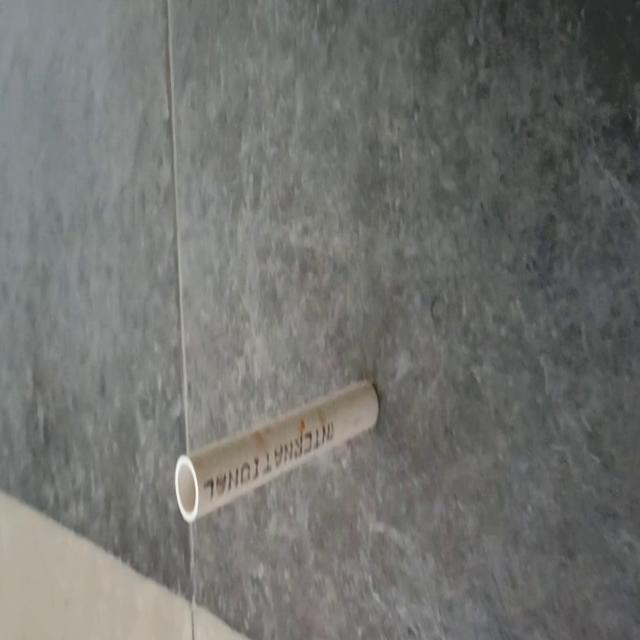Cube: (173, 376, 380, 524)
